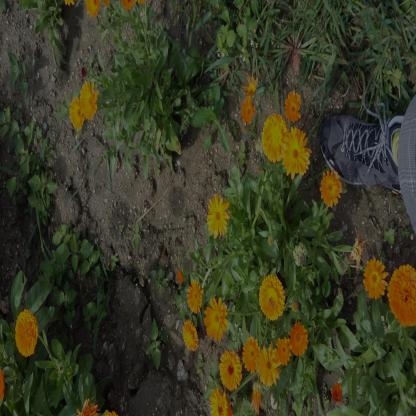marigold: (389, 262, 415, 326), (281, 128, 311, 176), (263, 115, 287, 162), (259, 276, 284, 320), (15, 310, 38, 356), (362, 258, 386, 299), (204, 300, 228, 340), (219, 352, 242, 390), (206, 197, 229, 234), (260, 346, 280, 384), (320, 170, 341, 206), (210, 389, 233, 416), (80, 82, 97, 118), (290, 322, 308, 356), (242, 338, 260, 372), (284, 89, 302, 122), (181, 322, 199, 350), (69, 96, 83, 128), (275, 338, 292, 364), (241, 96, 255, 124), (188, 283, 202, 311), (245, 78, 257, 97)
